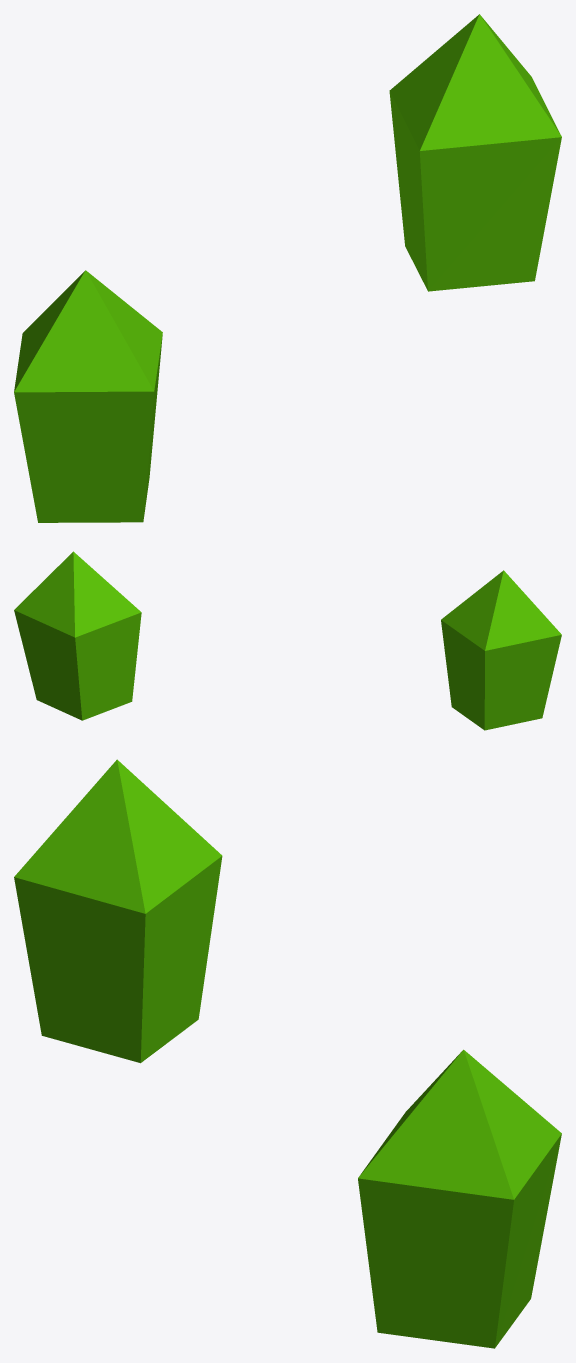
The model's file is crystal_terra_1.obj.
The picture shows the model from 3 angles, top to bottom: view 1: azimuth 30°, elevation 25°; view 2: azimuth 150°, elevation 25°; view 3: azimuth 270°, elevation 25°; orthographic projection. The views are drawn at different scales.
Visible parts, largest first — view 1: s014, s015; view 2: s014, s015; view 3: s015, s014.
Boxes of the visible parts, left/top/right/bottom form: s014: left=389, top=14, right=561, bottom=291; s015: left=14, top=270, right=162, bottom=522; s014: left=14, top=551, right=141, bottom=720; s015: left=441, top=570, right=561, bottom=730; s015: left=14, top=759, right=222, bottom=1063; s014: left=358, top=1049, right=561, bottom=1348.
Bounding box in the file's own units: 0.8279 × 0.2728 × 0.4947.
